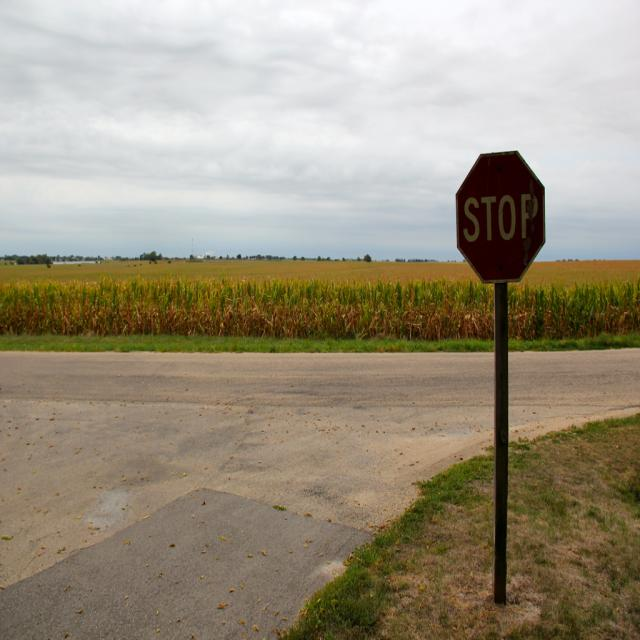Stop-sign: (454, 147, 544, 285)
